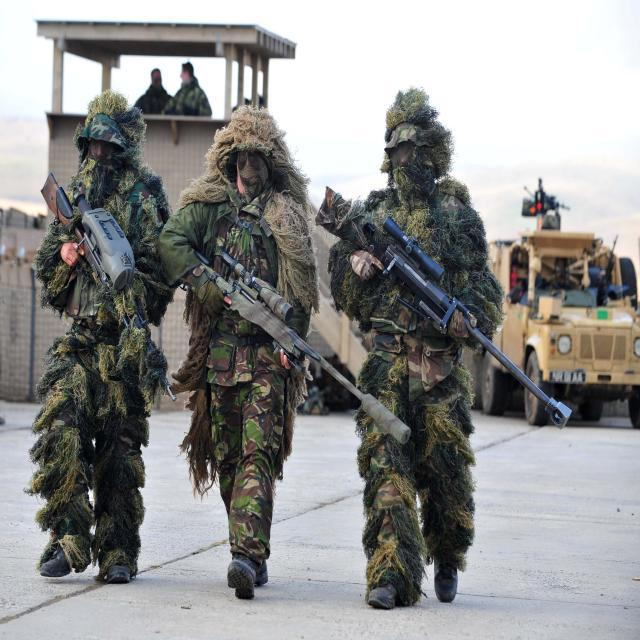machine gun: (30, 170, 188, 397)
scope: (219, 253, 300, 327), (379, 215, 449, 290)
sniper rifle: (315, 182, 572, 439), (193, 253, 415, 449)
